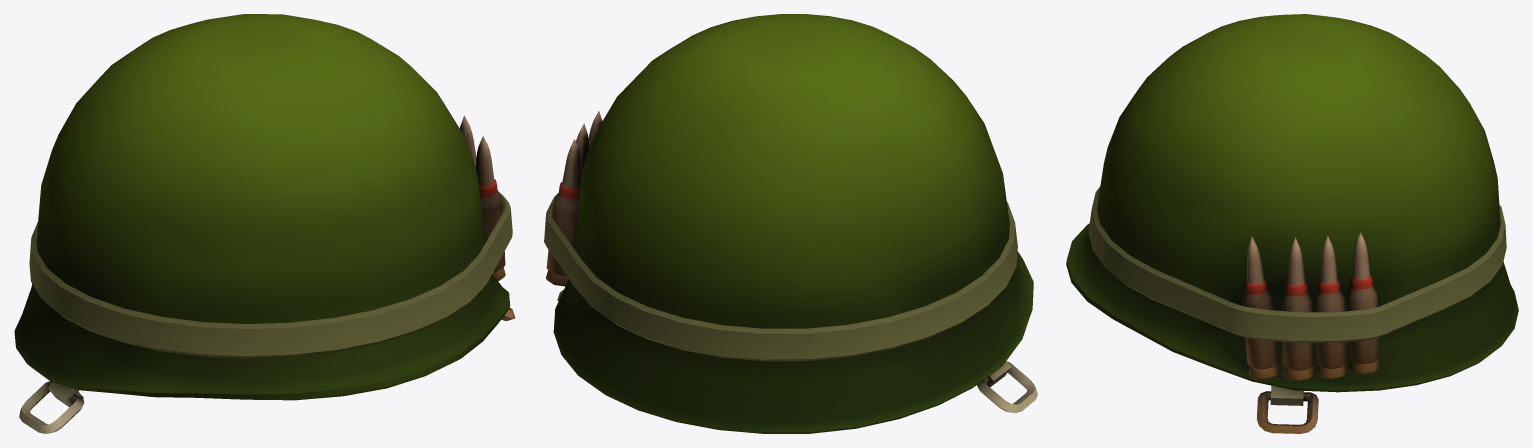
Rendered from Cap_Military_Helmet.gltf.
3 renders of one model, left to right at view 1: azimuth 30°, elevation 25°; view 2: azimuth 150°, elevation 25°; view 3: azimuth 270°, elevation 25°, orthographic. The views are drawn at different scales.
Parts seen in each view (by area): view 1: Cap_Military_Helmet; view 2: Cap_Military_Helmet; view 3: Cap_Military_Helmet.
Part boxes in pixels (box(x1,y1,x2,y2)): Cap_Military_Helmet: box(14, 14, 515, 433); Cap_Military_Helmet: box(544, 14, 1037, 433); Cap_Military_Helmet: box(1066, 14, 1518, 433).
Bounding box in the file's own units: 1.13 × 0.7325 × 1.03.
Materials: 2 (2 with a texture image).
